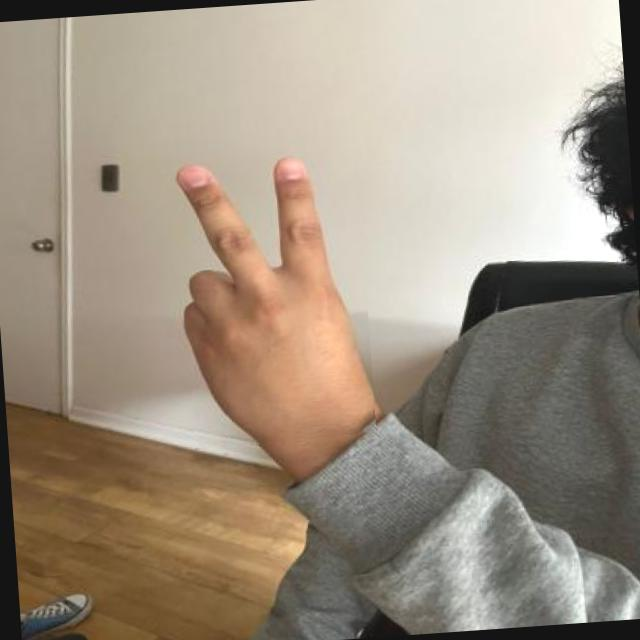V: (158, 147, 376, 451)
